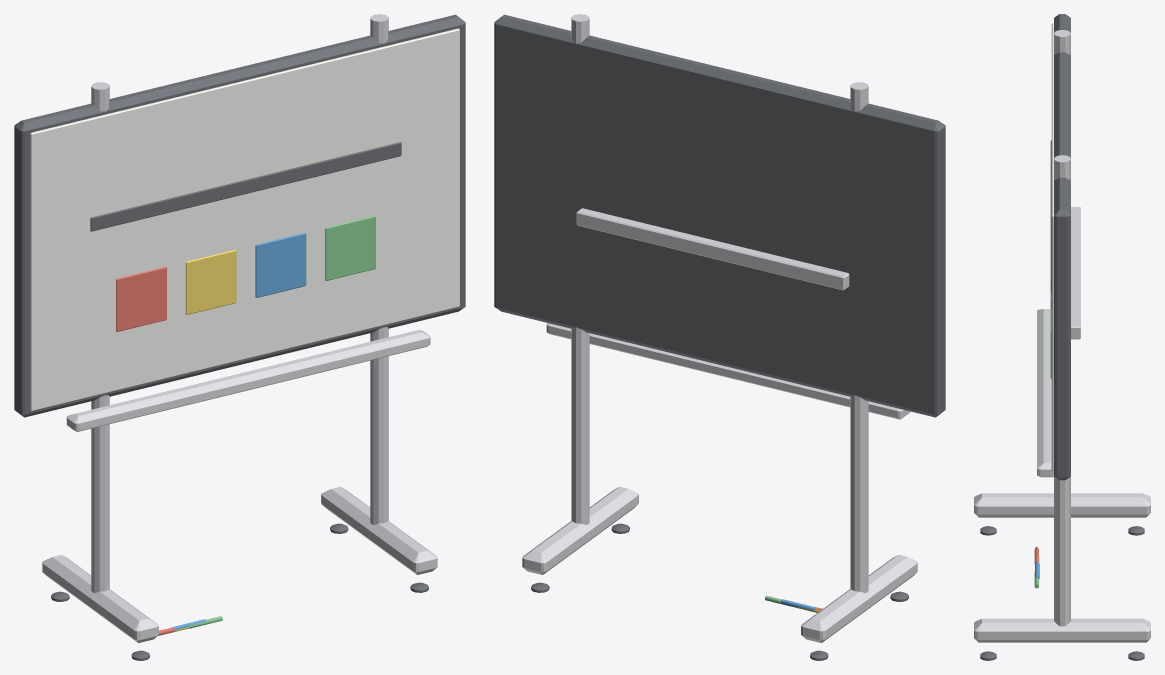
The model's file is nursery-and-primary-classroom-interactive-whiteboard-s-070a8541__34988.glb.
The picture shows the model from 3 angles, left to right: view 1: azimuth 30°, elevation 25°; view 2: azimuth 150°, elevation 25°; view 3: azimuth 270°, elevation 25°; orthographic projection. The views are drawn at different scales.
Parts seen in each view (by area): view 1: interactive-whiteboard-stand; view 2: interactive-whiteboard-stand; view 3: interactive-whiteboard-stand.
Boxes of the visible parts, left/top/right/bottom form: interactive-whiteboard-stand: left=14, top=14, right=465, bottom=660; interactive-whiteboard-stand: left=494, top=14, right=945, bottom=660; interactive-whiteboard-stand: left=974, top=14, right=1150, bottom=660.
Bounding box in the file's own units: 1.66 × 1.96 × 0.6199.
